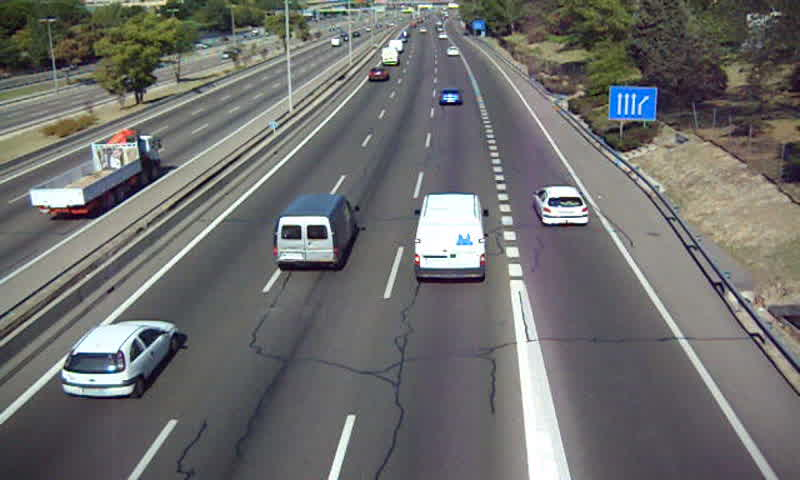car: (62, 321, 179, 398), (534, 184, 590, 226), (438, 88, 464, 106), (367, 67, 389, 82)
van: (414, 194, 486, 280), (274, 194, 357, 268), (381, 48, 399, 66)
